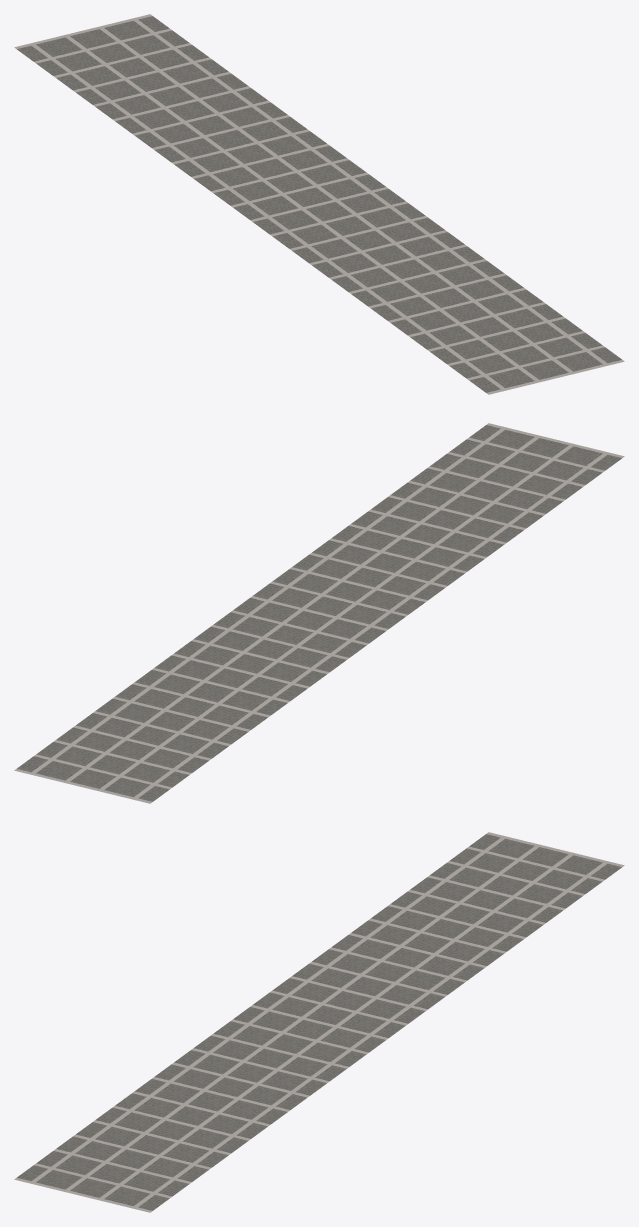
The model's file is Piso.obj.
3 renders of one model, top to bottom at view 1: azimuth 30°, elevation 25°; view 2: azimuth 150°, elevation 25°; view 3: azimuth 330°, elevation 25°, orthographic.
Parts seen in each view (by area): view 1: Piso; view 2: Piso; view 3: Piso.
Boxes of the visible parts, x1=… form: Piso: x1=14, y1=14, x2=624, y2=394; Piso: x1=14, y1=423, x2=624, y2=803; Piso: x1=14, y1=832, x2=624, y2=1212.
Bounding box in the file's own units: 9.2 × 0 × 55.5.
Materials: 2 (2 with a texture image).
